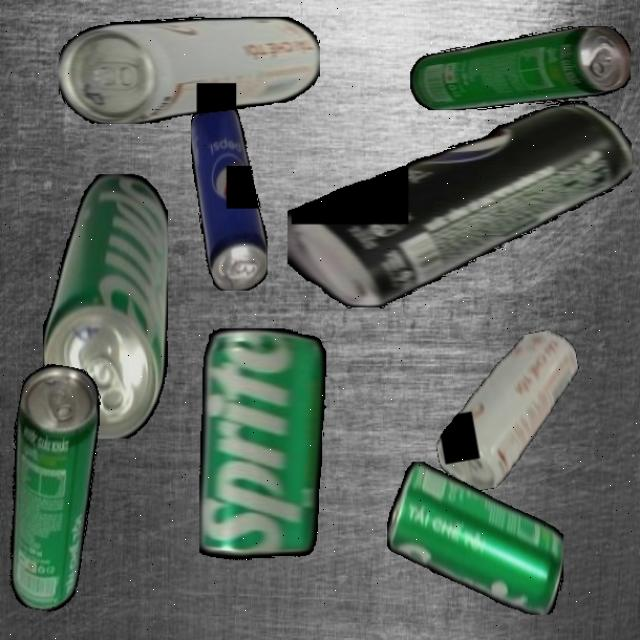debris: (286, 101, 632, 308), (200, 328, 366, 560), (42, 173, 168, 439), (421, 326, 596, 496), (0, 360, 113, 615), (59, 16, 320, 124), (386, 460, 564, 614), (409, 26, 631, 110), (190, 104, 267, 290)
